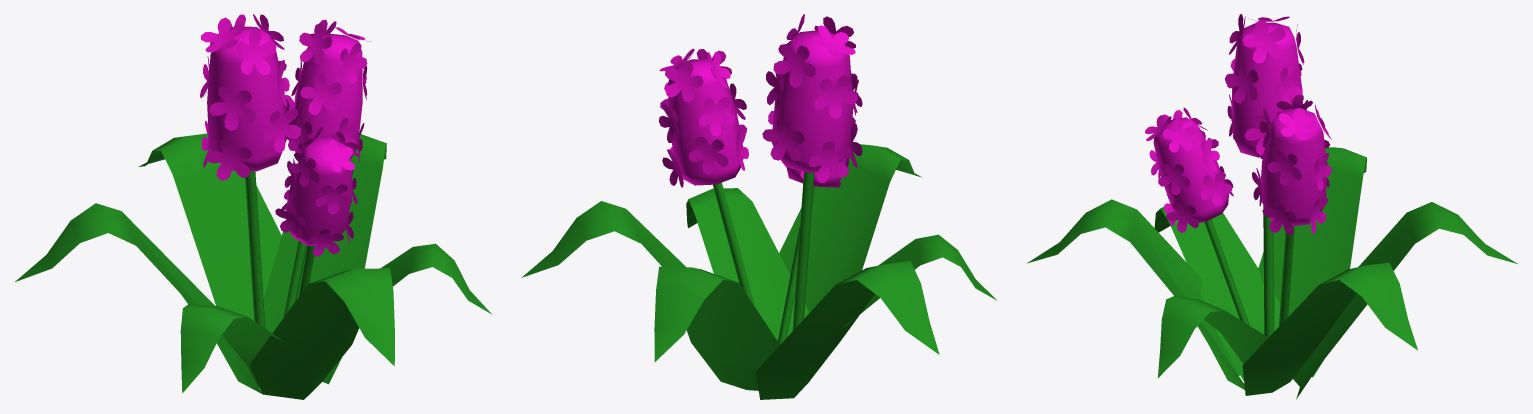
Rendered from flower-violet.glb.
The picture shows the model from 3 angles, left to right: view 1: azimuth 30°, elevation 25°; view 2: azimuth 150°, elevation 25°; view 3: azimuth 270°, elevation 25°; orthographic projection. The views are drawn at different scales.
Parts seen in each view (by area): view 1: Flower.026; view 2: Flower.026; view 3: Flower.026.
Part boxes in pixels (<box>): Flower.026: <box>15,14,492,399</box>; Flower.026: <box>521,14,997,399</box>; Flower.026: <box>1027,14,1517,399</box>.
Bounding box in the file's own units: 3.6 × 3.26 × 4.16.
